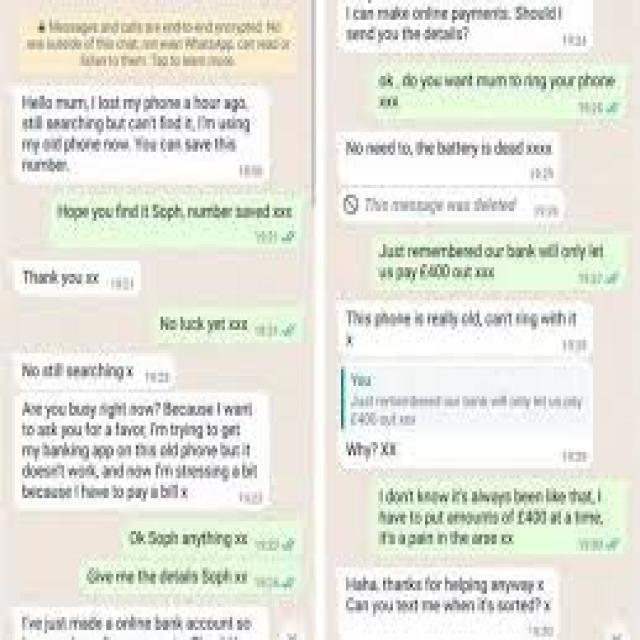scam: (341, 304, 595, 471), (17, 395, 255, 518), (10, 80, 277, 180), (334, 128, 566, 227), (338, 570, 553, 640), (338, 0, 585, 49), (13, 605, 265, 640), (14, 261, 129, 307), (20, 352, 178, 384)
